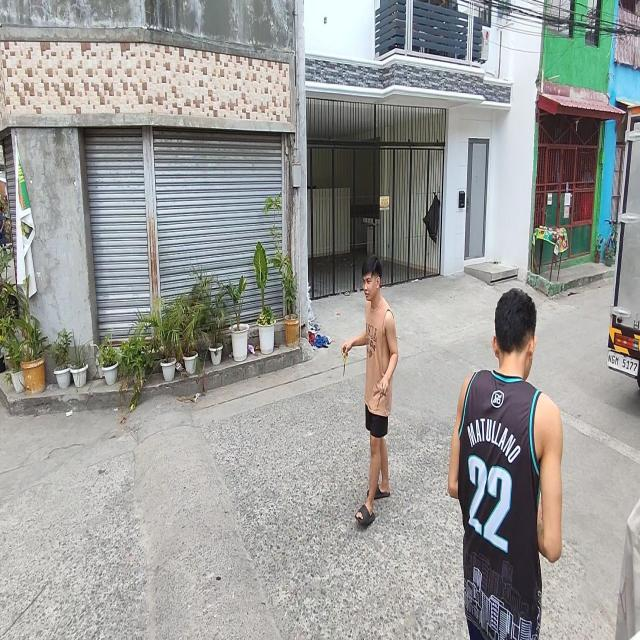scissor: (343, 352, 347, 378)
